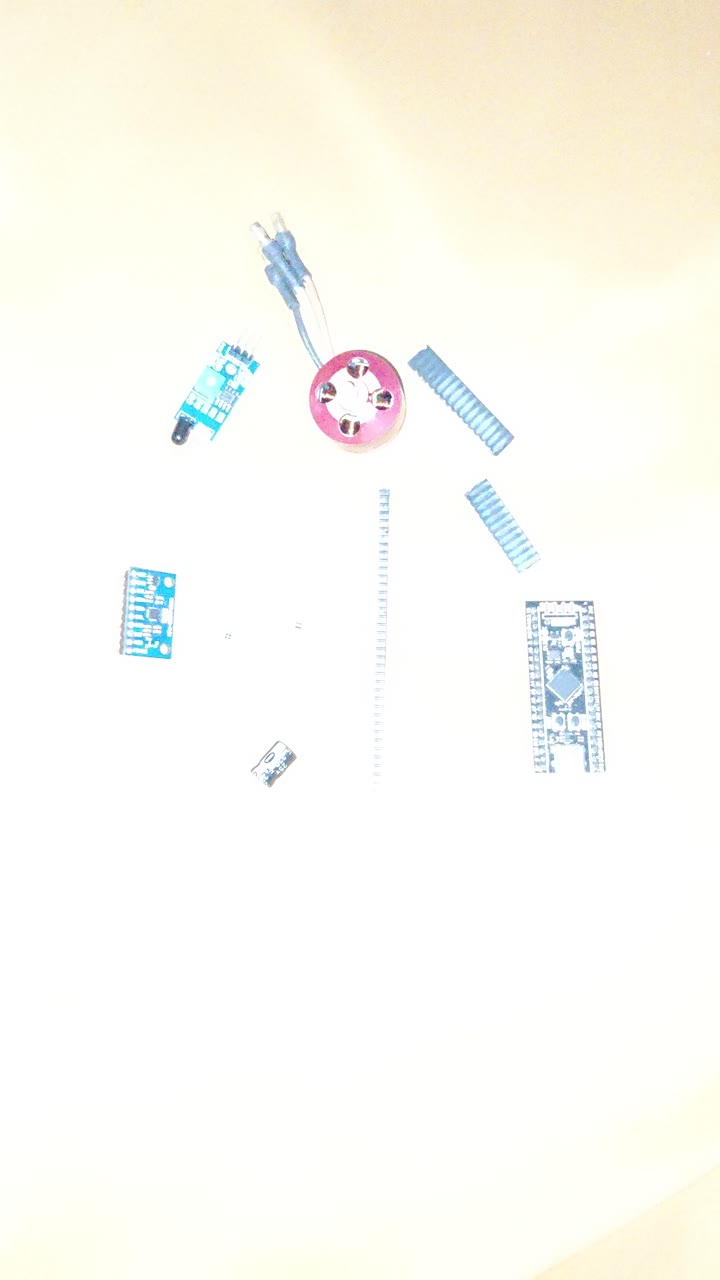bldc_motor: (304, 345, 398, 442)
elco_capacitor: (249, 739, 298, 788)
ir_sensor: (167, 338, 253, 450)
mpu6500: (116, 562, 178, 663)
pin_header: (322, 459, 406, 823), (376, 341, 504, 440), (461, 435, 539, 567)
resistor: (155, 523, 250, 724), (252, 534, 323, 722)
stm32f4: (522, 593, 605, 779)
xt30_female: (392, 579, 477, 664)
